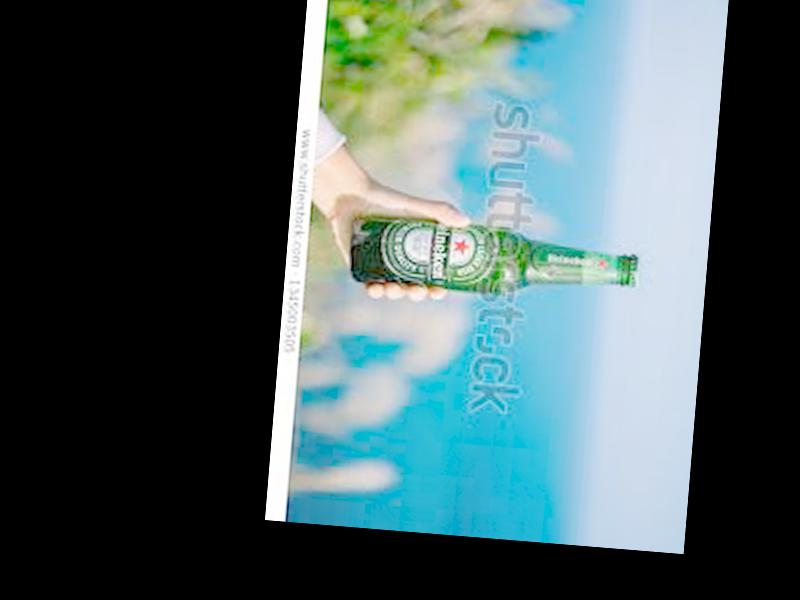Beer: (351, 211, 642, 305)
